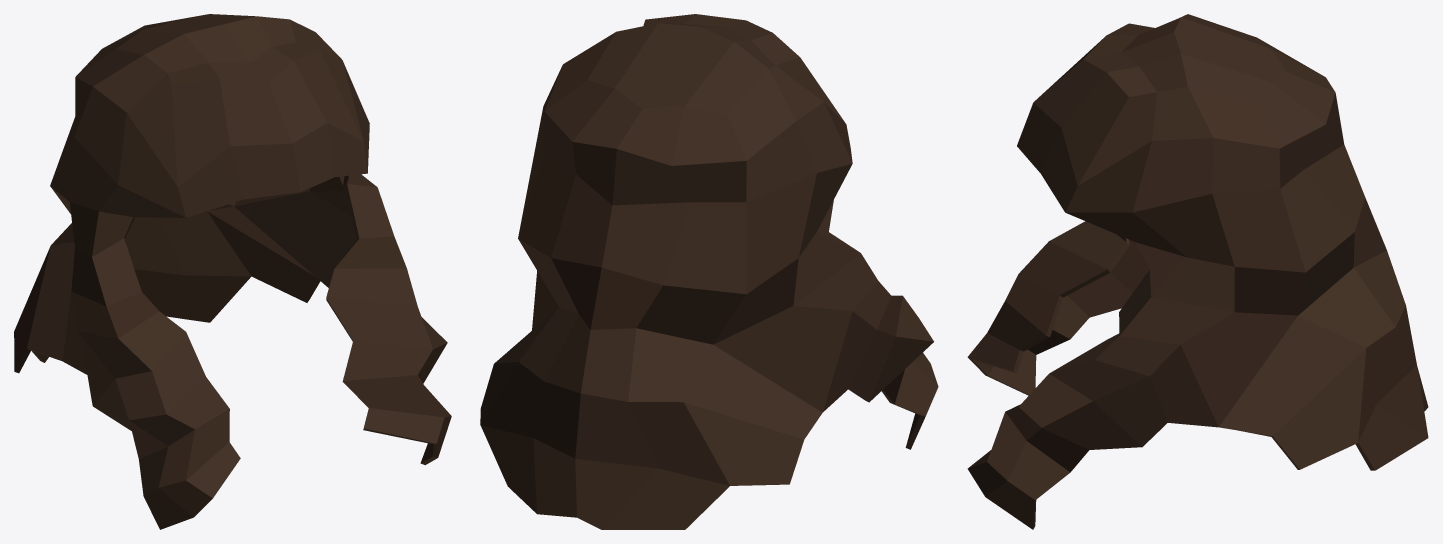
File: long_curly_hair.glb
The picture shows the model from 3 angles, left to right: view 1: azimuth 30°, elevation 25°; view 2: azimuth 150°, elevation 25°; view 3: azimuth 270°, elevation 25°; orthographic projection. The views are drawn at different scales.
Parts seen in each view (by area): view 1: Long Curly Hair.001; view 2: Long Curly Hair.001; view 3: Long Curly Hair.001.
Part boxes in pixels (bbox=[...]): Long Curly Hair.001: bbox=[14, 14, 451, 529]; Long Curly Hair.001: bbox=[480, 14, 938, 529]; Long Curly Hair.001: bbox=[967, 14, 1428, 529].
Bounding box in the file's own units: 0.6974 × 0.8842 × 0.8556.
